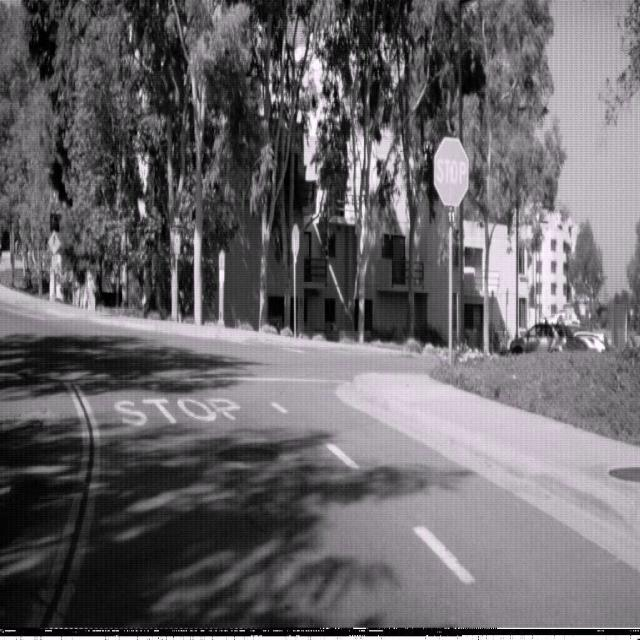pedestrianCrossing: (47, 228, 61, 255)
stop: (433, 136, 469, 207)
